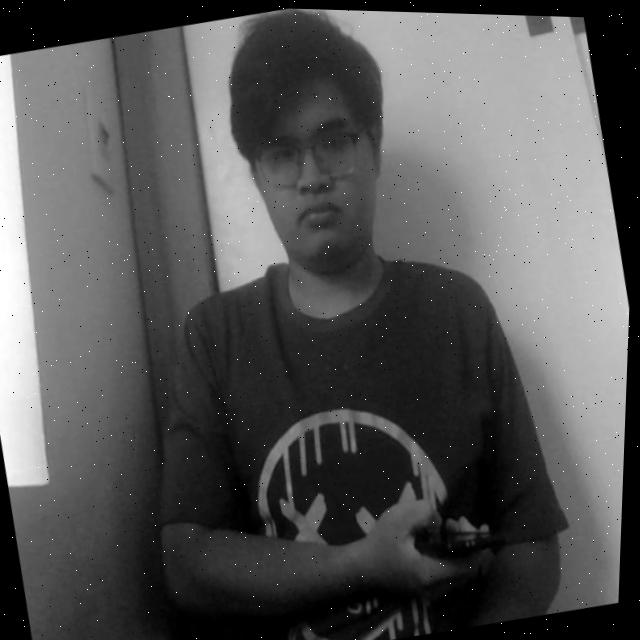phone: (400, 486, 509, 585)
